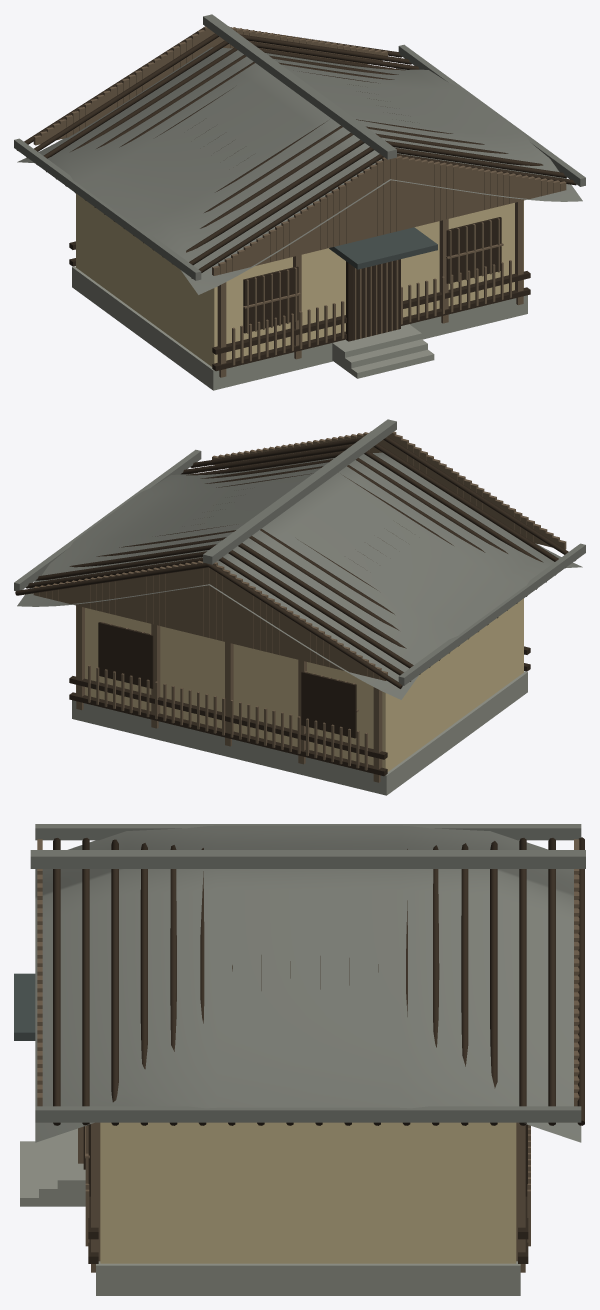
The model's file is shed.glb.
3 renders of one model, top to bottom at view 1: azimuth 30°, elevation 25°; view 2: azimuth 150°, elevation 25°; view 3: azimuth 270°, elevation 25°, orthographic. The views are drawn at different scales.
Visible parts, largest first — view 1: metal, wood, darkwood, paper, stone, roof; view 2: metal, darkwood, wood, paper, stone; view 3: metal, paper, darkwood, stone, wood, roof.
Boxes of the visible parts, x1,y1,x2,y2 form: metal: (14,14,585,294); wood: (33,26,566,377); darkwood: (17,26,576,371); paper: (76,193,523,366); stone: (72,266,527,390); roof: (329,227,437,269); metal: (14,419,585,699); darkwood: (15,436,575,776); wood: (33,431,566,782); paper: (76,598,523,771); stone: (72,671,527,795); metal: (30,824,585,1142); paper: (100,1122,516,1263); darkwood: (53,837,584,1263); stone: (20,1128,520,1295); wood: (37,839,579,1272); roof: (14,973,35,1040).
Size of the model in its own units: 11.16 by 5.94 by 9.42.
